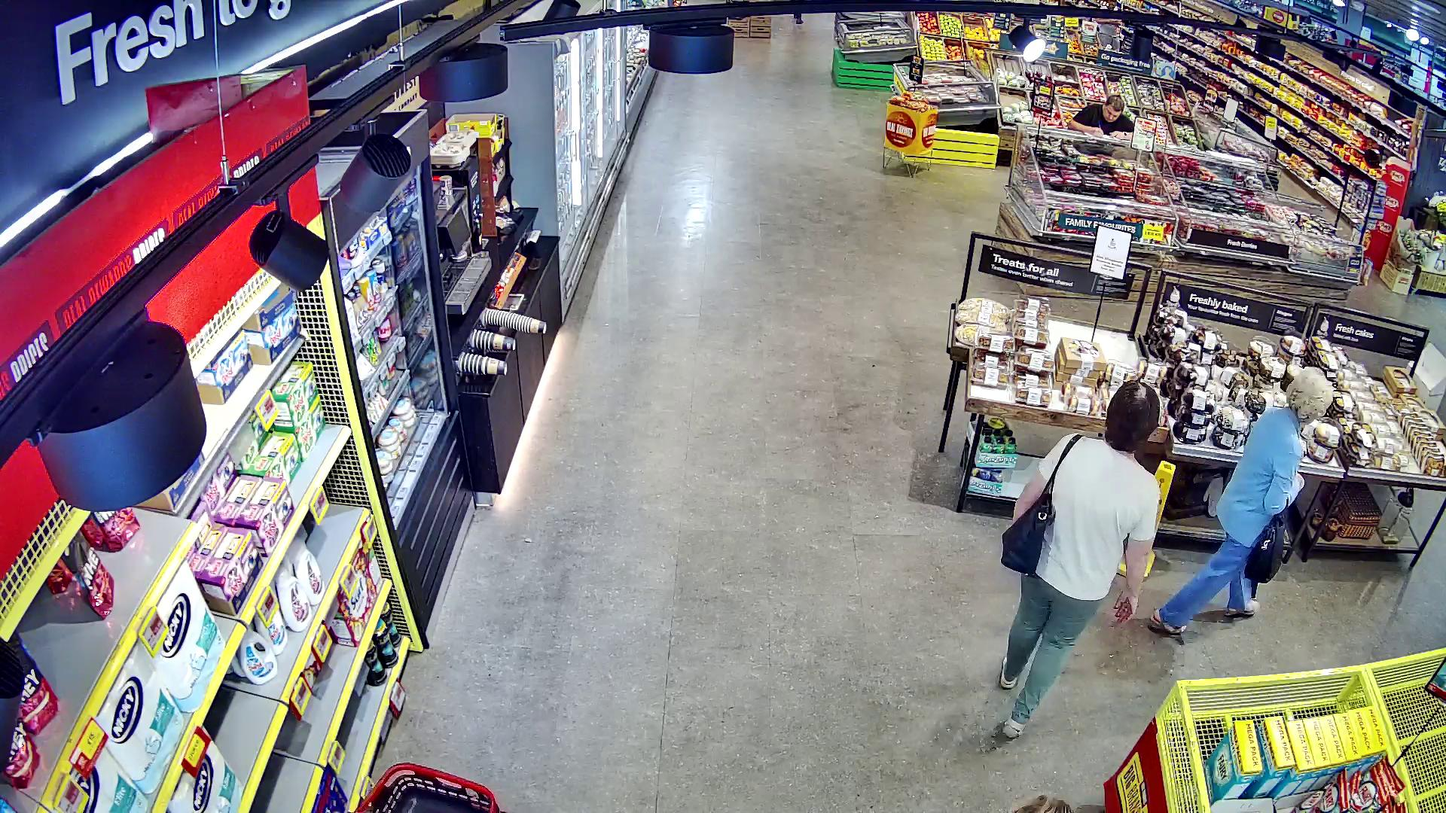backpack-or-handbag: (999, 496, 1054, 573), (1245, 517, 1286, 582)
person: (999, 381, 1159, 738), (1153, 367, 1333, 634)
person-with-backpack-handbag: (998, 381, 1160, 738), (1154, 368, 1333, 635)
